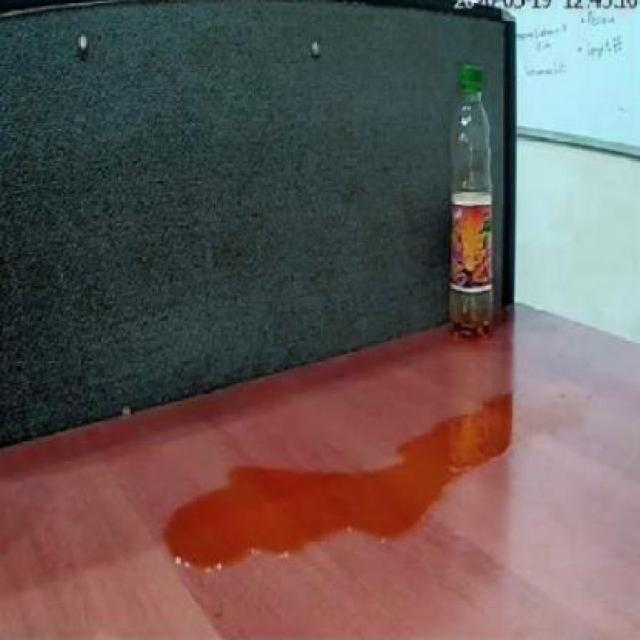spillage: (162, 396, 513, 576)
